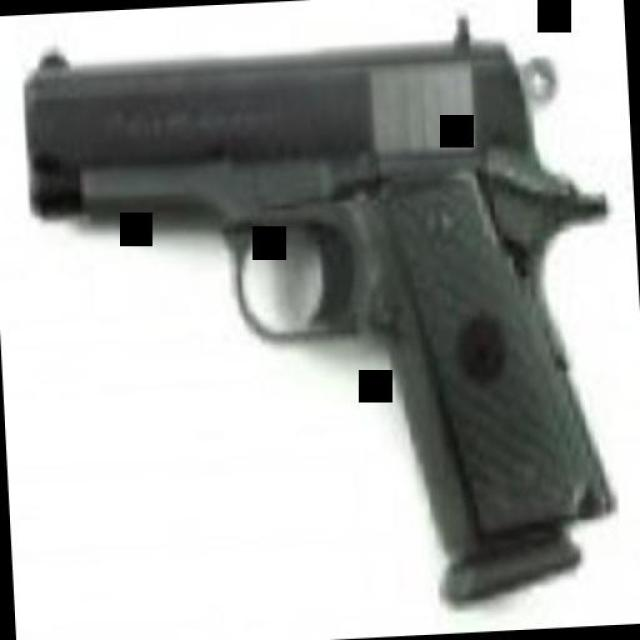gun: (15, 10, 634, 631)
